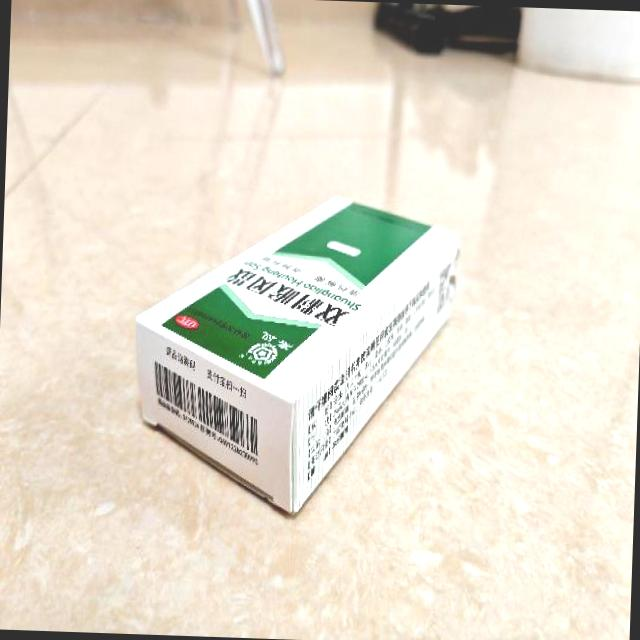box: (130, 187, 460, 520)
